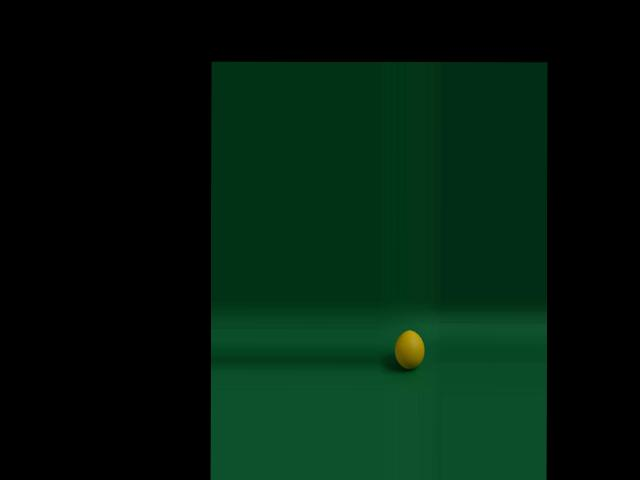egg: (395, 329, 425, 369)
